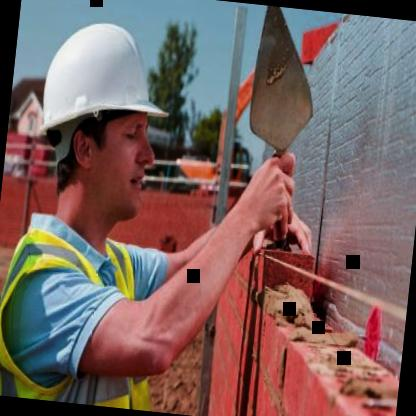helmet: (16, 0, 183, 250)
